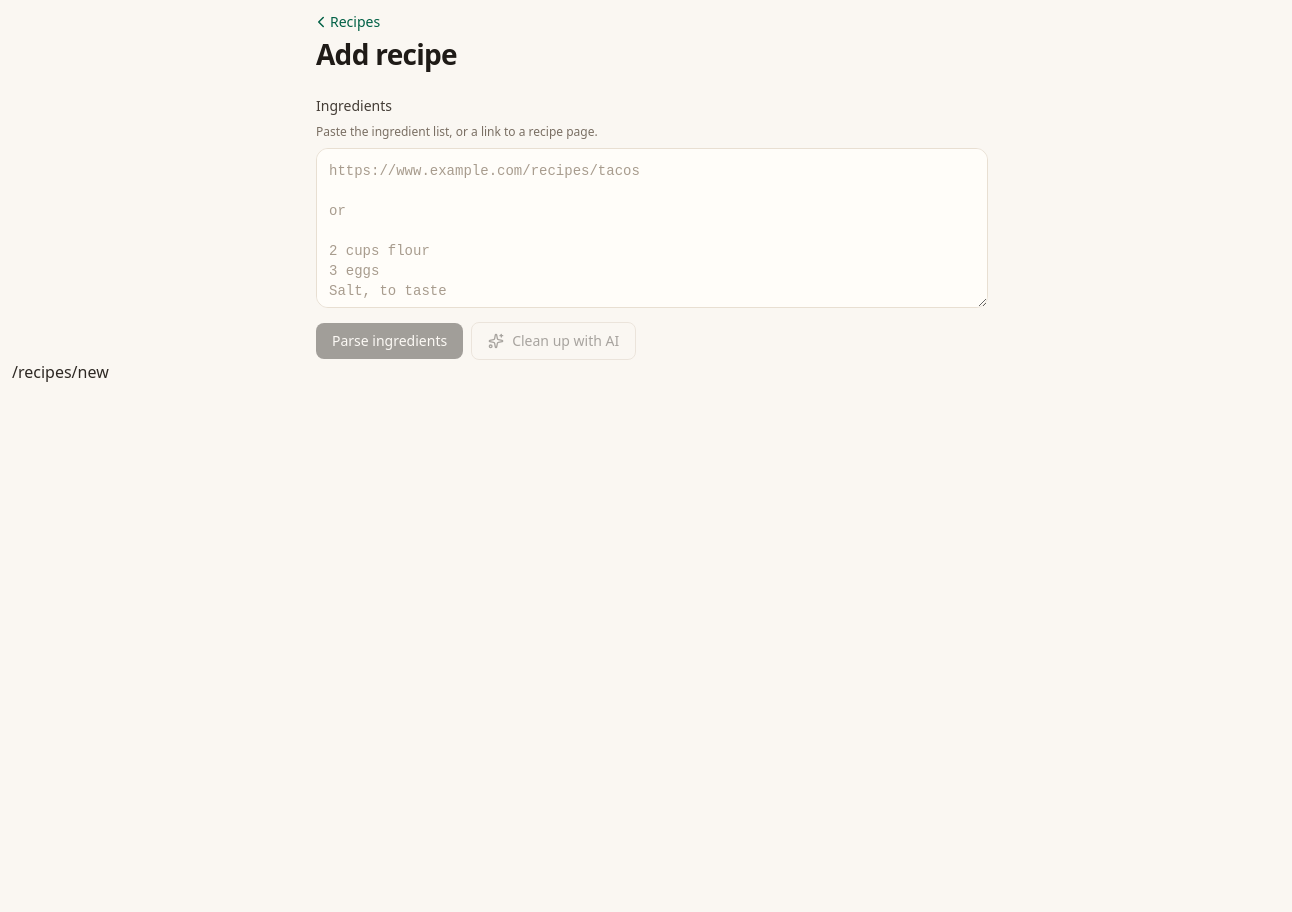
RecipeEditorScreen: AI › cleans up pasted text into reviewed lines
The image size is (1292, 912).
Type "Grandma used 2 cups flour and eggs" into the text box labelled "Ingredients". click: (652, 228)
box: [316,148,988,308]
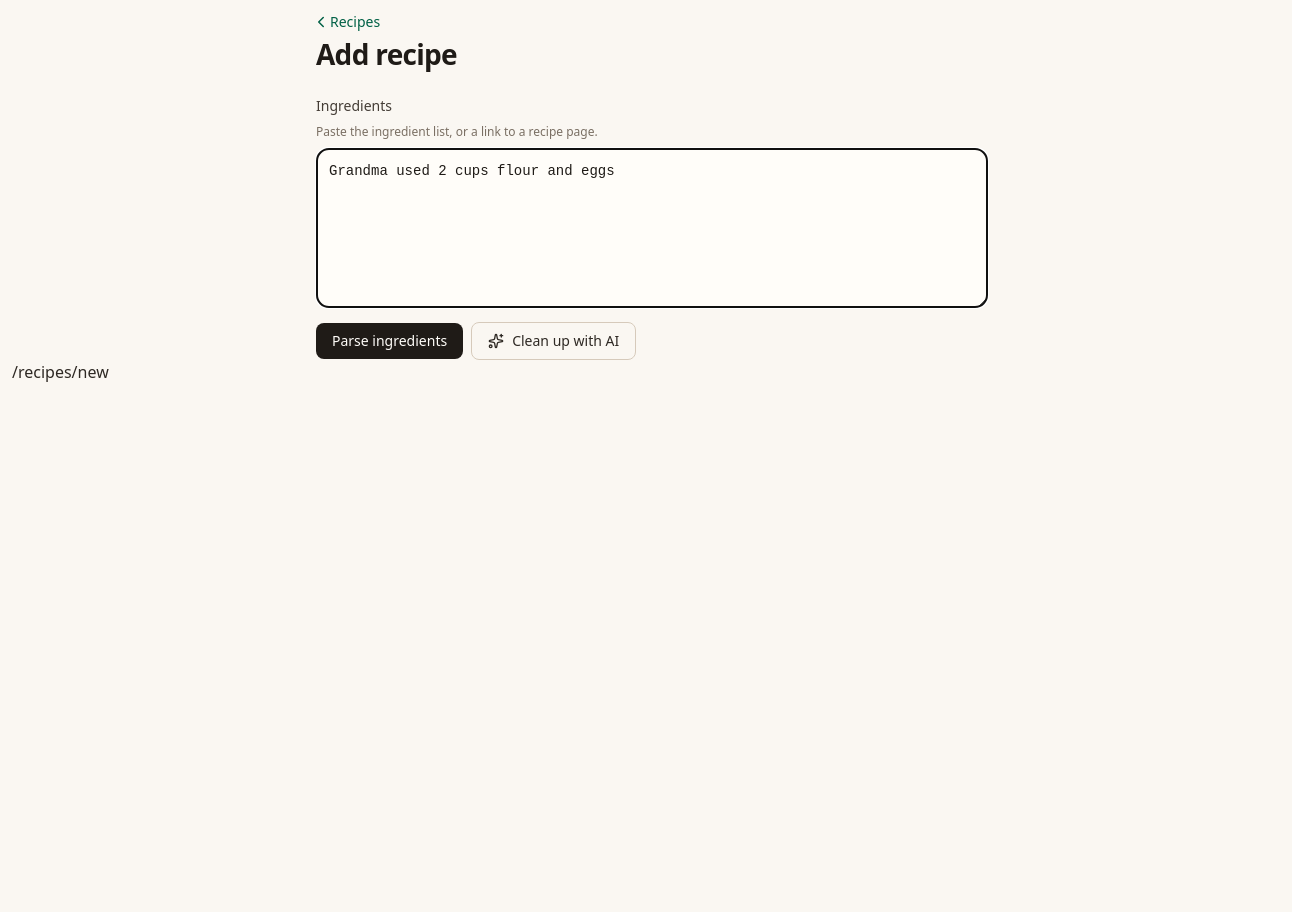
Expected: the button "Clean up with AI" is enabled
Click the button "Clean up with AI". click: (554, 341)
box: [471,322,636,360]
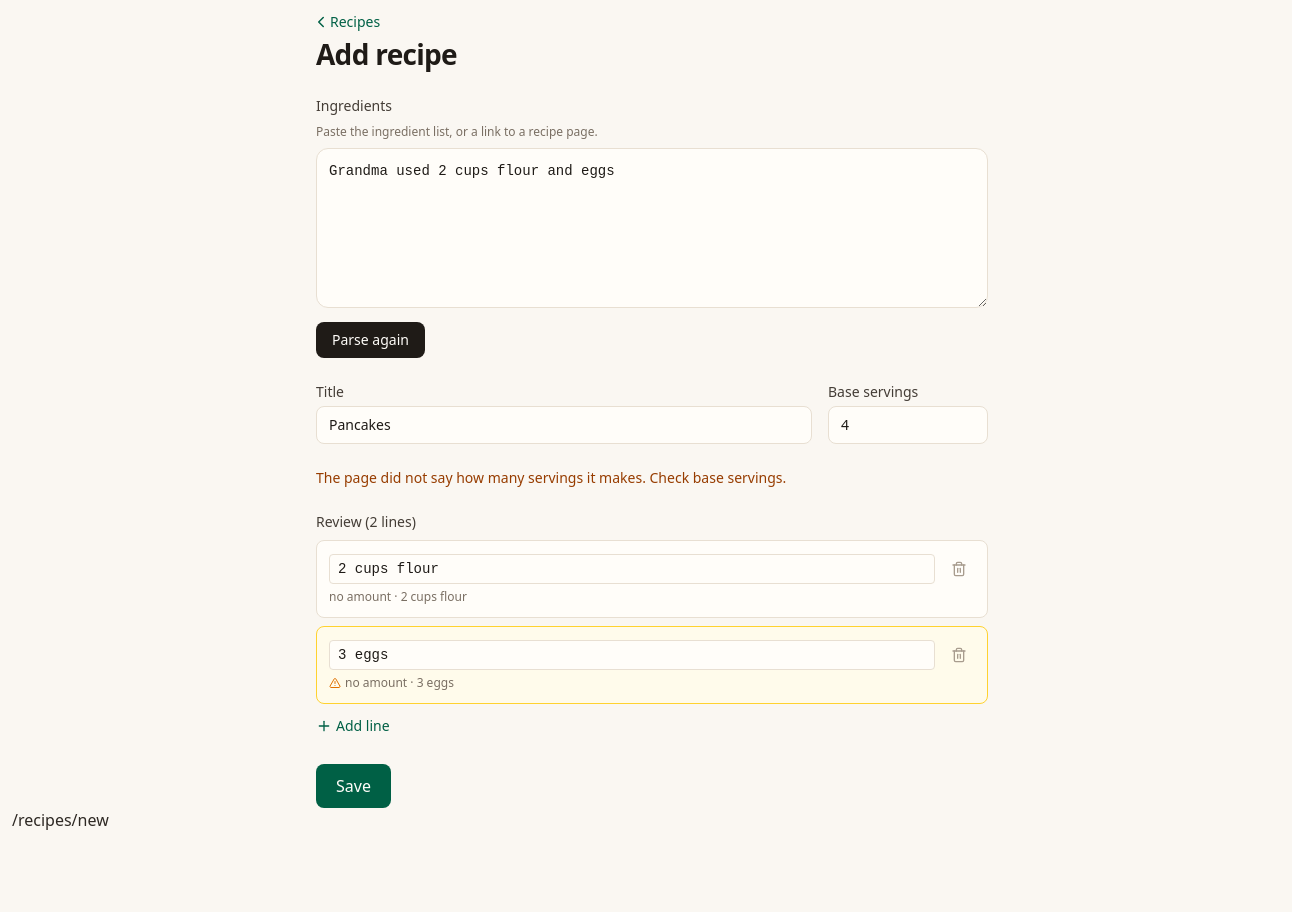
Expected: the heading "Review (2 lines)" is shown, [316,512,416,531]
Expected: the field labelled "Title" holds "Pancakes", [316,406,812,444]
Expected: the number field labelled "Base servings" holds "4", [828,406,988,444]
